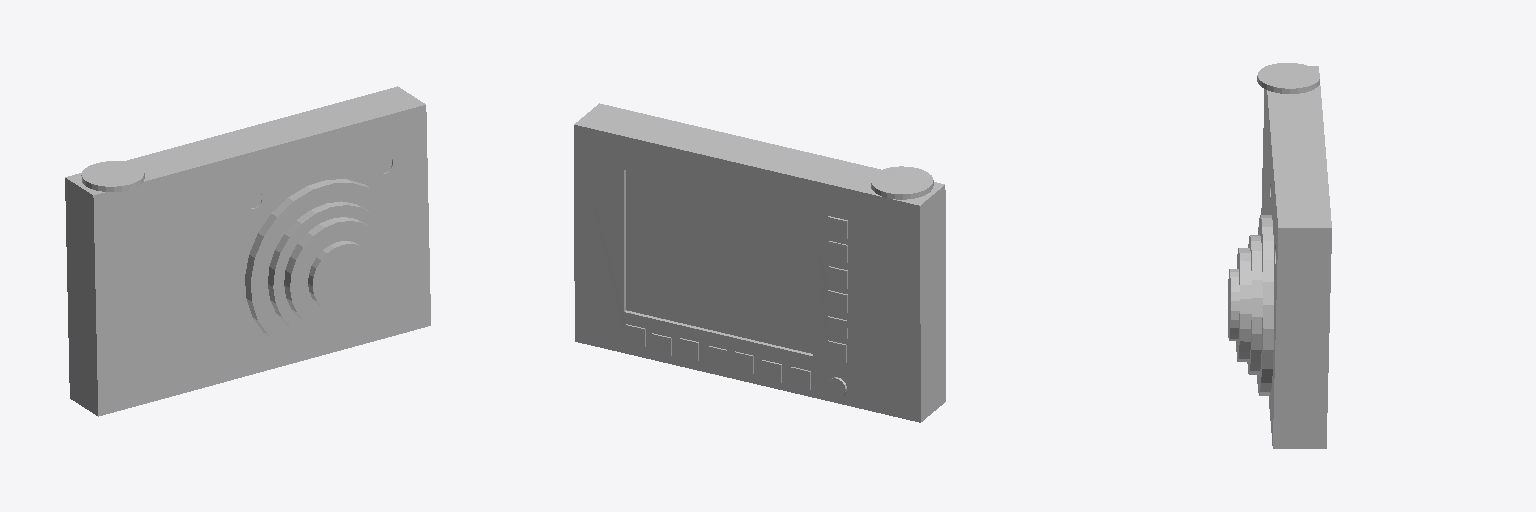
File: model_align.obj
The picture shows the model from 3 angles: view 1: azimuth 30°, elevation 25°; view 2: azimuth 150°, elevation 25°; view 3: azimuth 270°, elevation 25°; orthographic projection.
Parts seen in each view (by area): view 1: mesh1_mesh1-geometry, mesh2_mesh2-geometry; view 2: mesh1_mesh1-geometry, mesh2_mesh2-geometry; view 3: mesh1_mesh1-geometry, mesh2_mesh2-geometry.
Part boxes in pixels (bbox=[...]): mesh1_mesh1-geometry: bbox=[65, 86, 430, 416]; mesh2_mesh2-geometry: bbox=[81, 161, 144, 191]; mesh1_mesh1-geometry: bbox=[574, 103, 945, 422]; mesh2_mesh2-geometry: bbox=[871, 166, 933, 199]; mesh1_mesh1-geometry: bbox=[1228, 66, 1331, 448]; mesh2_mesh2-geometry: bbox=[1257, 63, 1319, 93].
Size of the model in its own units: 0.1263 by 0.0797 by 0.0332.